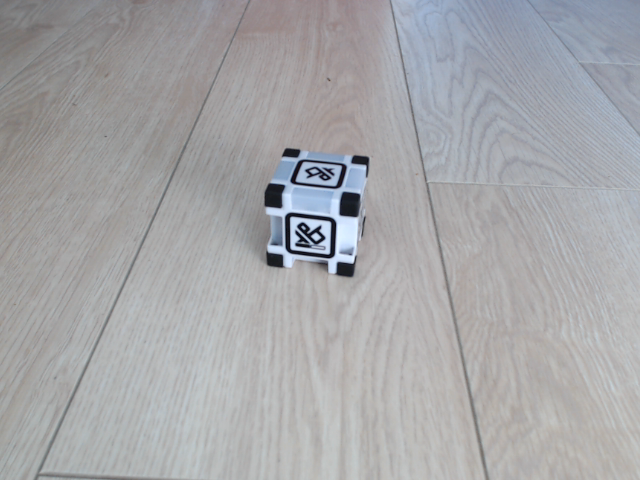block: (261, 145, 372, 281)
